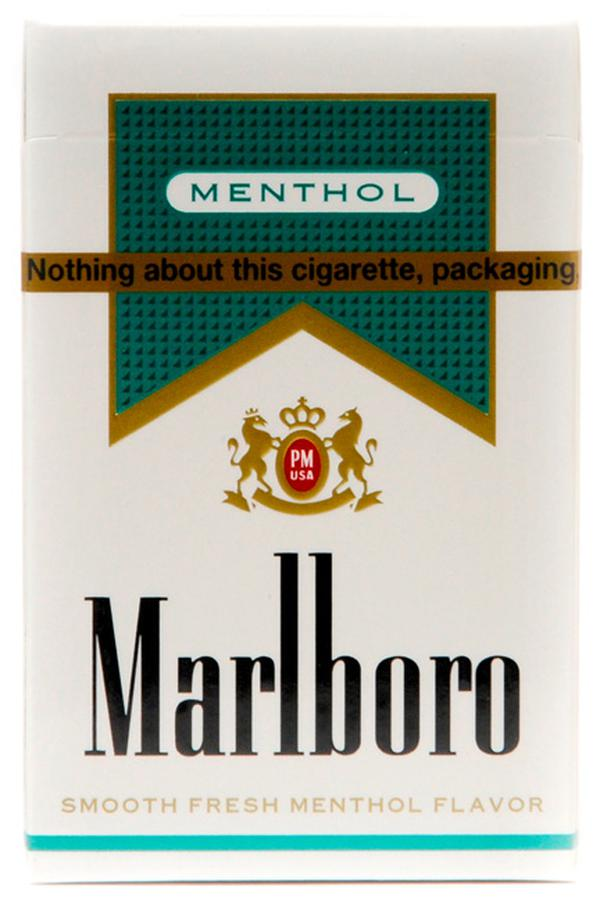marlboro_mentol: (26, 29, 576, 882)
